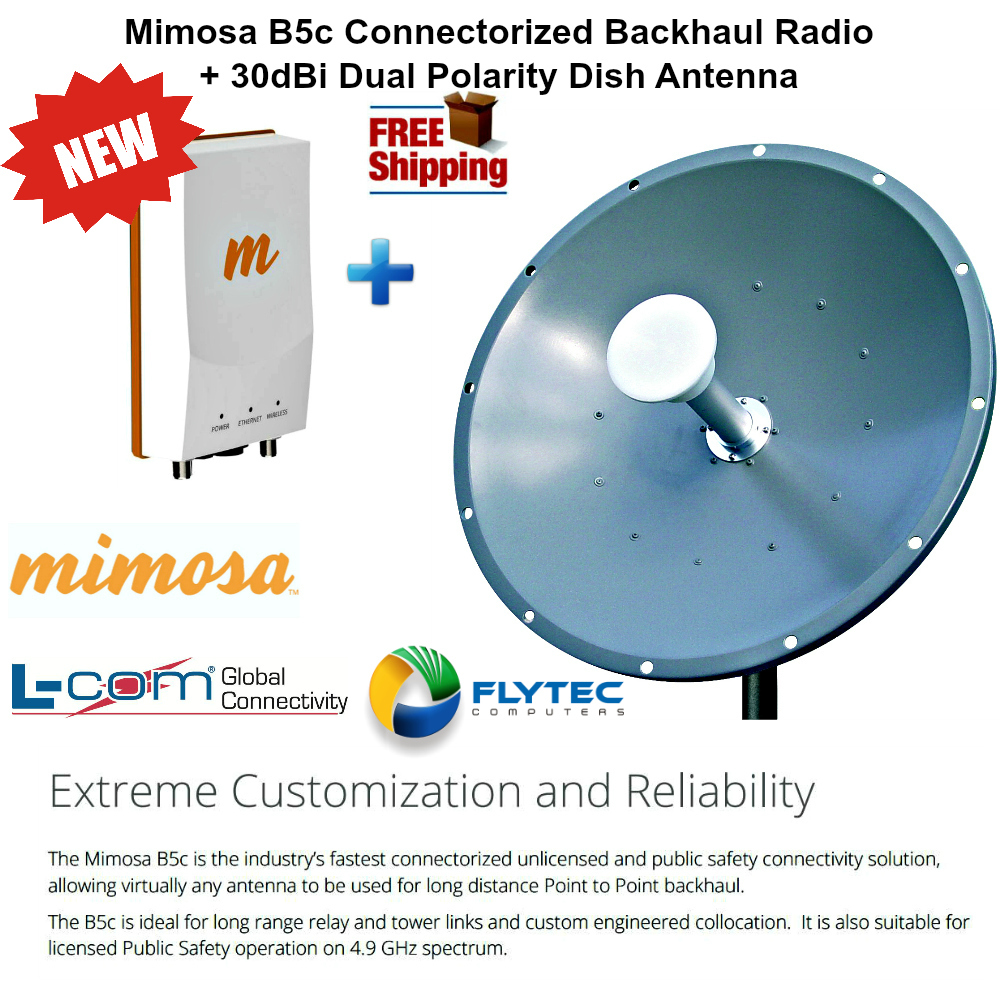ba: (476, 122, 943, 719)
